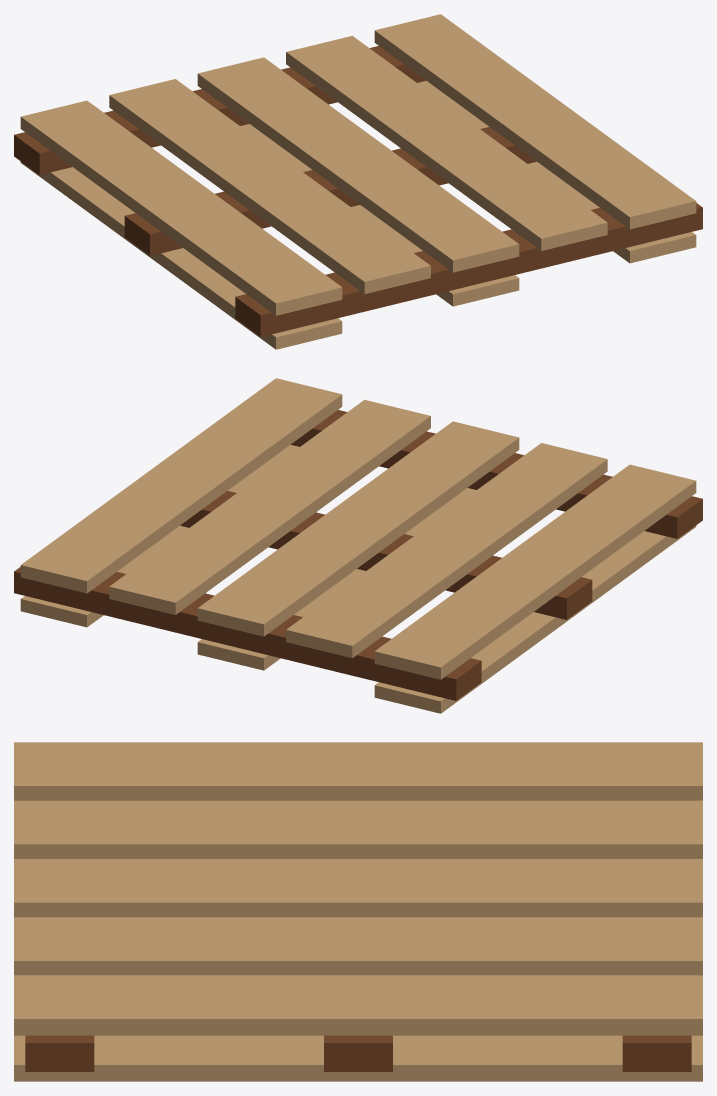
Rendered from CatCafe_Alley_Pallet.glb.
The picture shows the model from 3 angles, top to bottom: view 1: azimuth 30°, elevation 25°; view 2: azimuth 150°, elevation 25°; view 3: azimuth 270°, elevation 25°; orthographic projection. The views are drawn at different scales.
Visible parts, largest first — view 1: CatCafe_Alley_Pallet; view 2: CatCafe_Alley_Pallet; view 3: CatCafe_Alley_Pallet.
Part boxes in pixels (x1,y1,x2,y2): CatCafe_Alley_Pallet: (14, 14, 702, 349); CatCafe_Alley_Pallet: (14, 378, 702, 713); CatCafe_Alley_Pallet: (14, 742, 702, 1081).
Size of the model in its own units: 3 by 0.3 by 3.
Materials: 1 (1 with a texture image).
